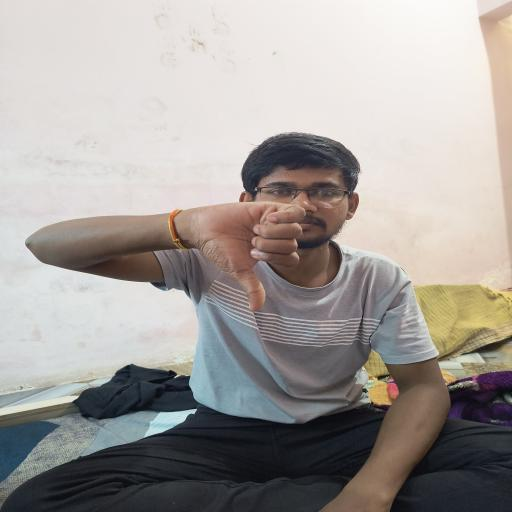Continue: (187, 189, 317, 318)
